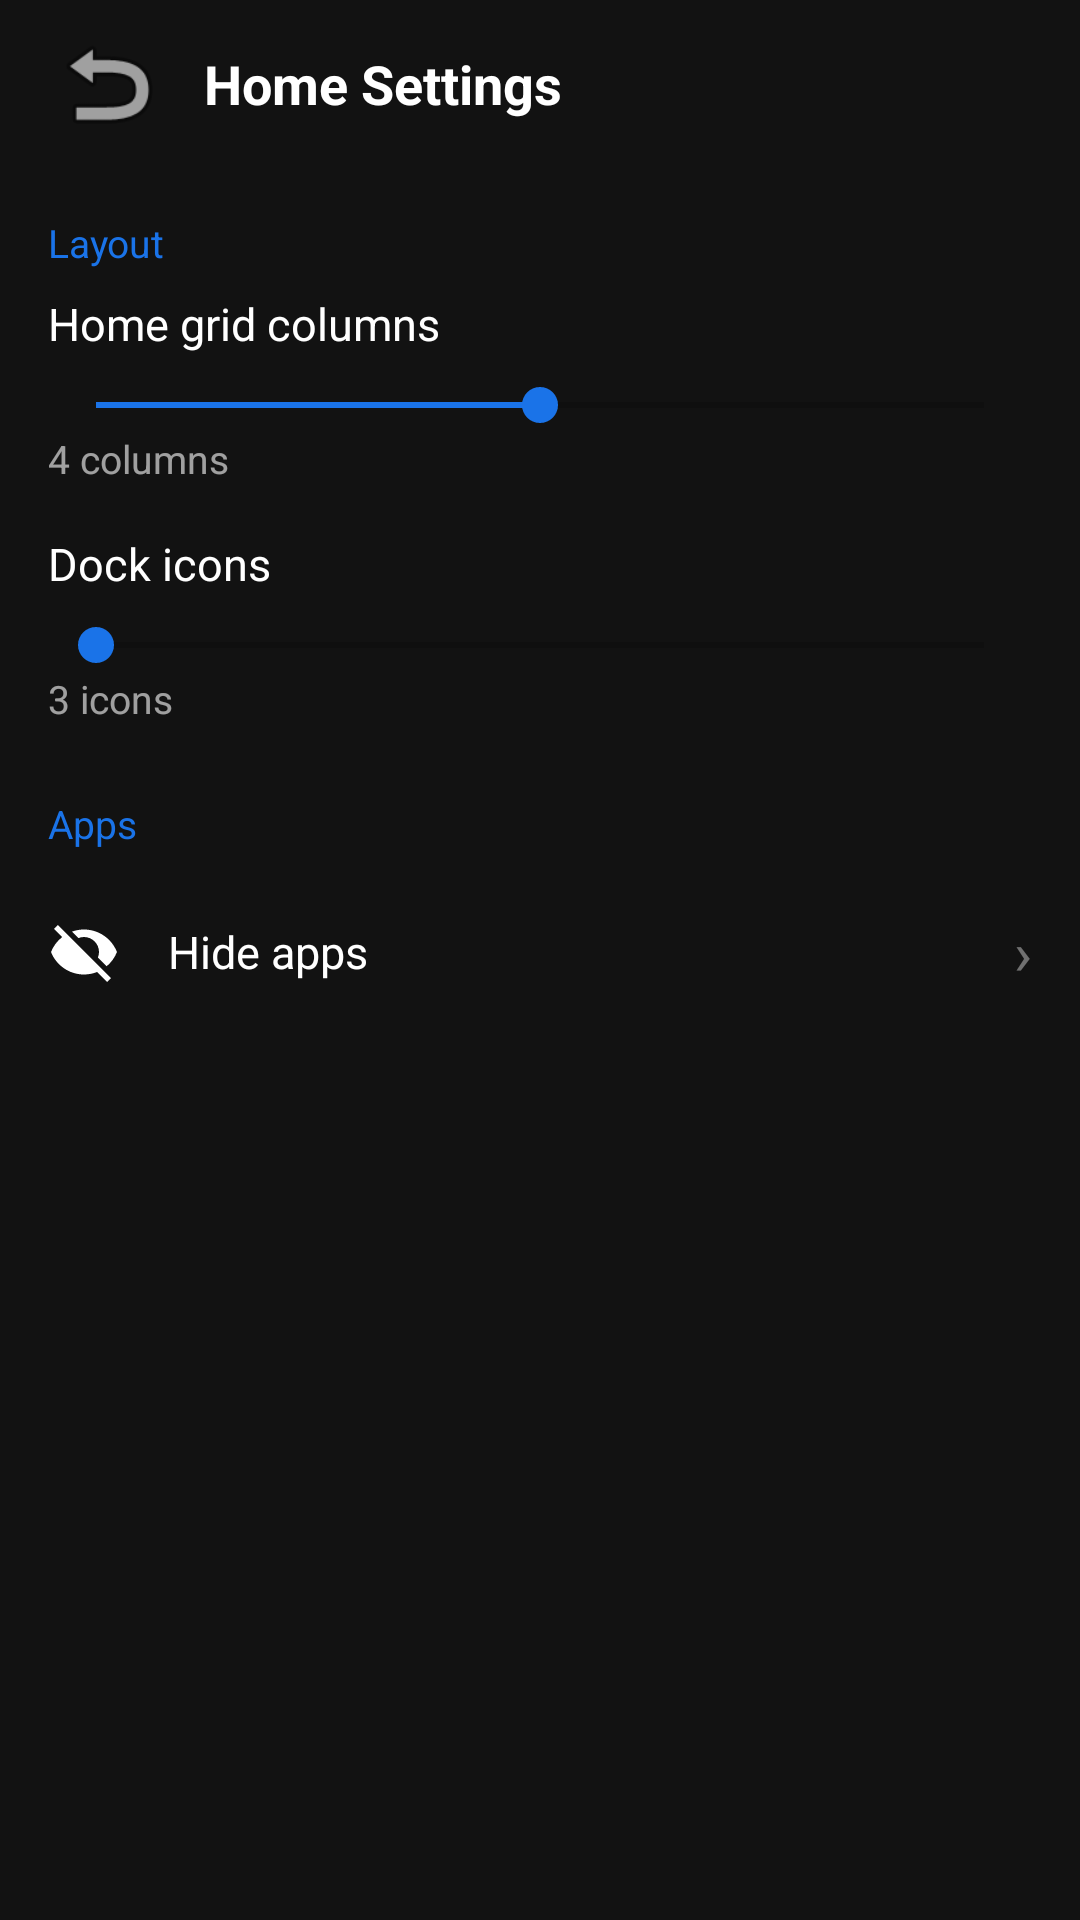

Where to tap for icons on this 1080 × 1920 app screen, as (x=x, y=y):
revert: (x=109, y=84)
